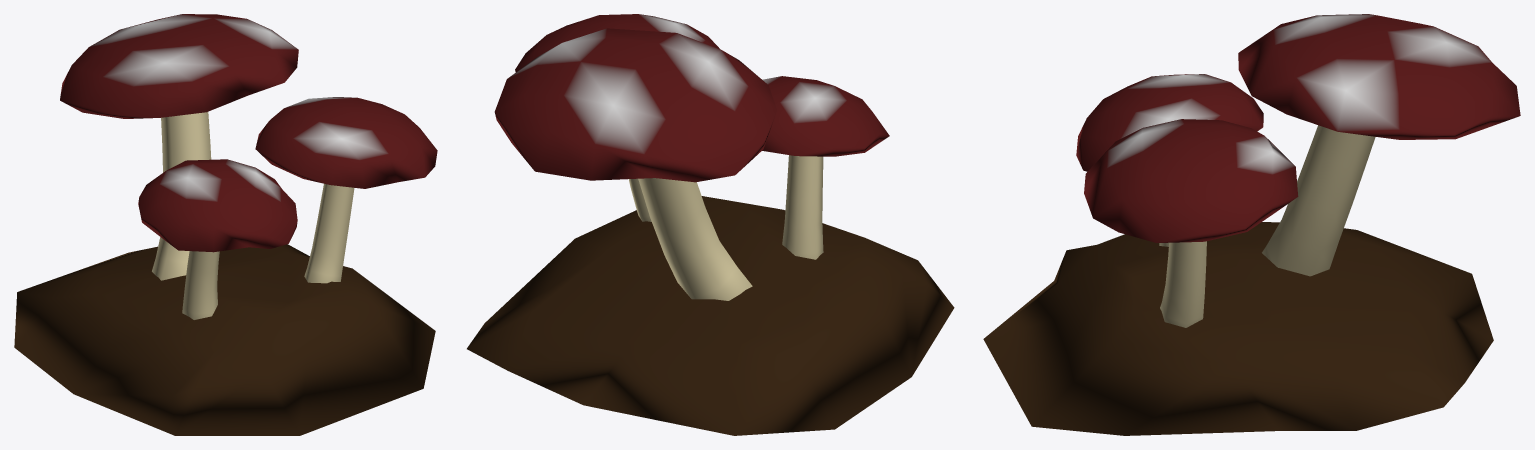
Rendered from mushroom_3.fbx.
3 renders of one model, left to right at view 1: azimuth 30°, elevation 25°; view 2: azimuth 150°, elevation 25°; view 3: azimuth 270°, elevation 25°, orthographic. The views are drawn at different scales.
Parts seen in each view (by area): view 1: Tube; view 2: Tube; view 3: Tube.
Boxes of the visible parts, bbox=[...] form: Tube: bbox=[14, 14, 437, 435]; Tube: bbox=[467, 14, 954, 435]; Tube: bbox=[983, 14, 1520, 435].
Size of the model in its own units: 7.8 by 6.13 by 8.89.
